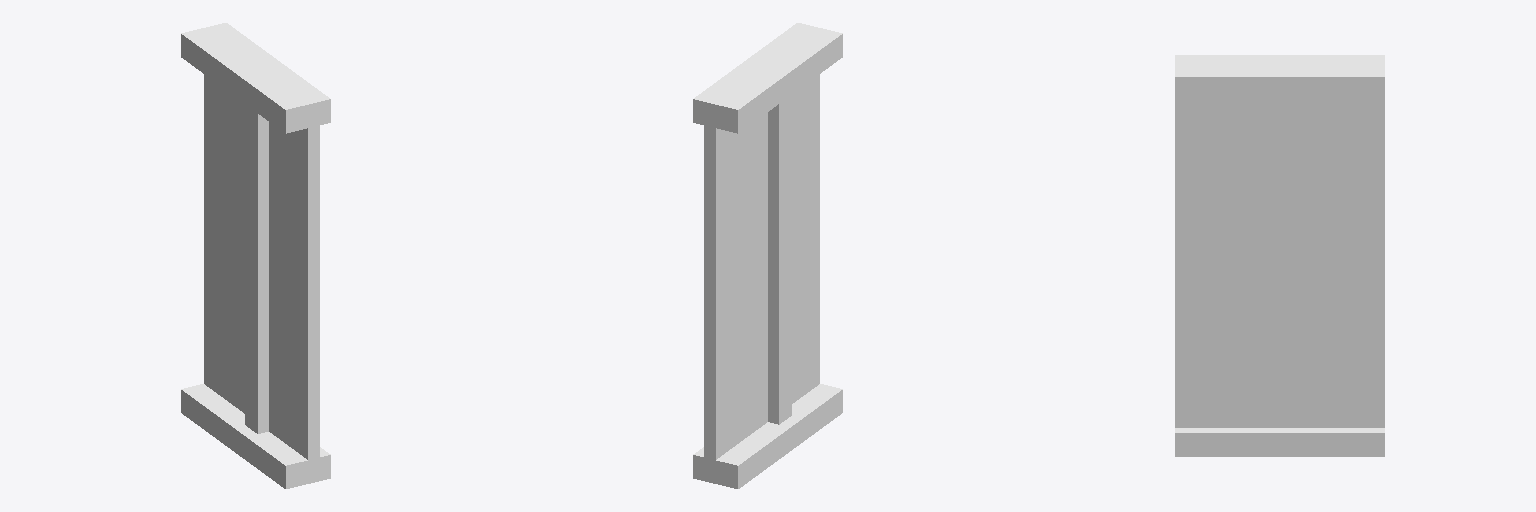
Rendered from mlgjam.obj.
3 views of the same model, side by side, from view 1: azimuth 30°, elevation 25°; view 2: azimuth 150°, elevation 25°; view 3: azimuth 270°, elevation 25° (orthographic).
Size of the model in its own units: 0.2 by 1.6 by 0.8.